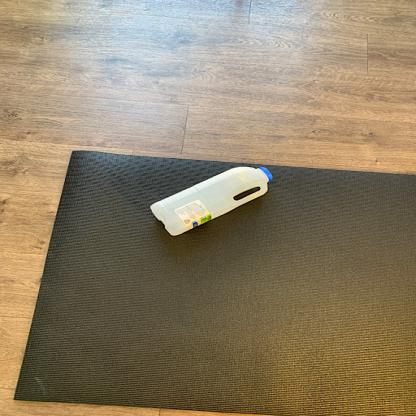trash: (148, 166, 276, 238)
